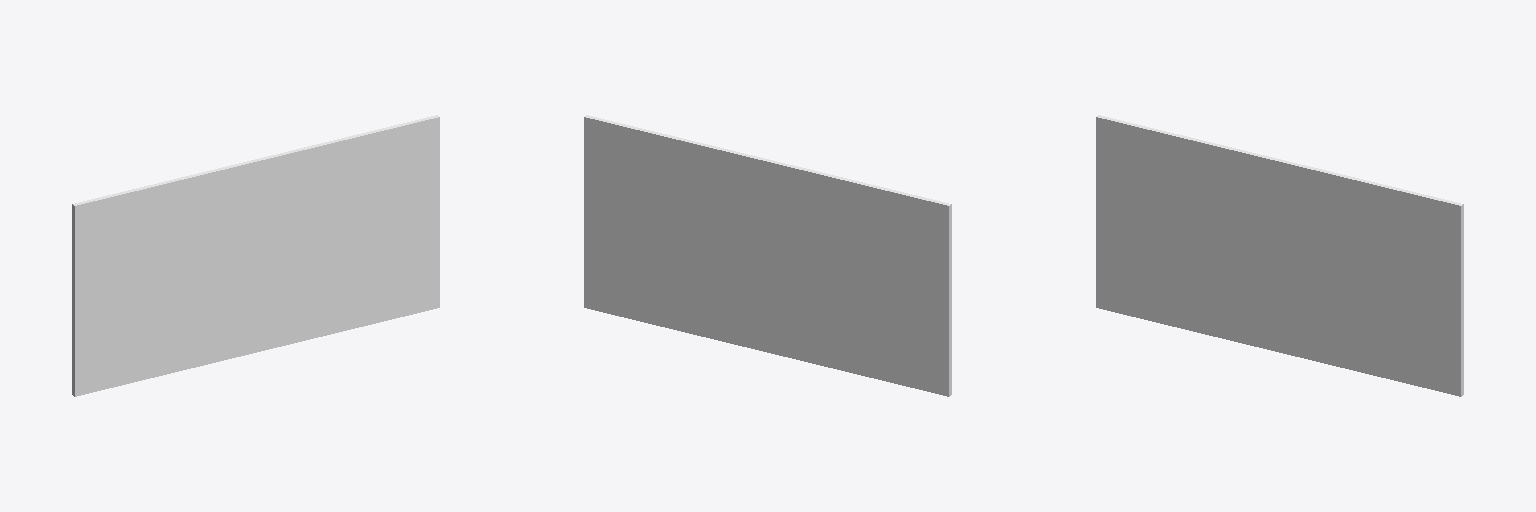
Rendered from tutorial2.obj.
3 renders of one model, left to right at view 1: azimuth 30°, elevation 25°; view 2: azimuth 150°, elevation 25°; view 3: azimuth 330°, elevation 25°, orthographic.
Visible parts, largest first — view 1: object 1; view 2: object 1; view 3: object 1.
Boxes of the visible parts, x1=… form: object 1: x1=72, y1=115, x2=439, y2=396; object 1: x1=584, y1=115, x2=951, y2=396; object 1: x1=1096, y1=115, x2=1463, y2=396.
Bounding box in the file's own units: 8 × 4 × 0.1.